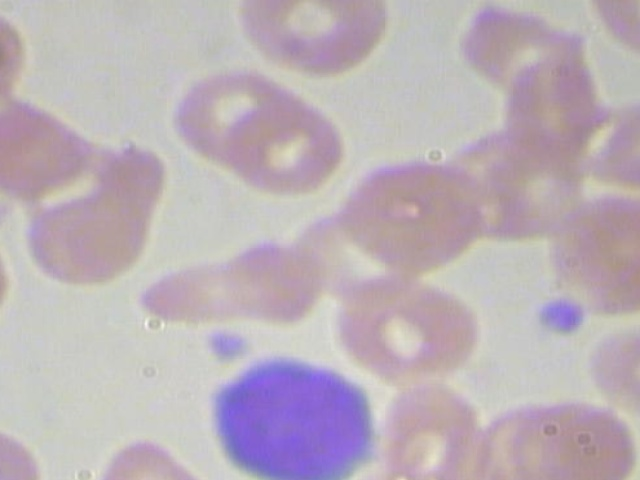Platelets: (522, 291, 598, 338), (198, 322, 254, 365)
RBC: (332, 275, 497, 384), (222, 99, 356, 199), (165, 66, 299, 166)
WBC: (208, 349, 388, 480)
